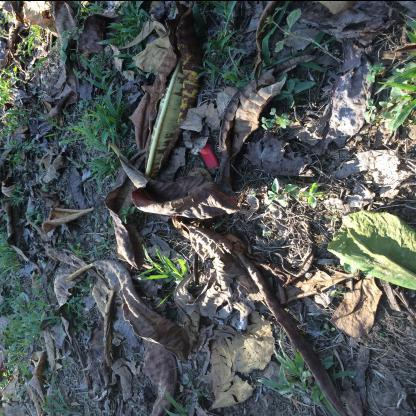diger: (200, 141, 221, 175)
